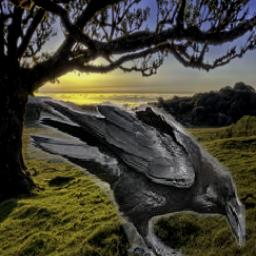Crow: (28, 100, 247, 256)
